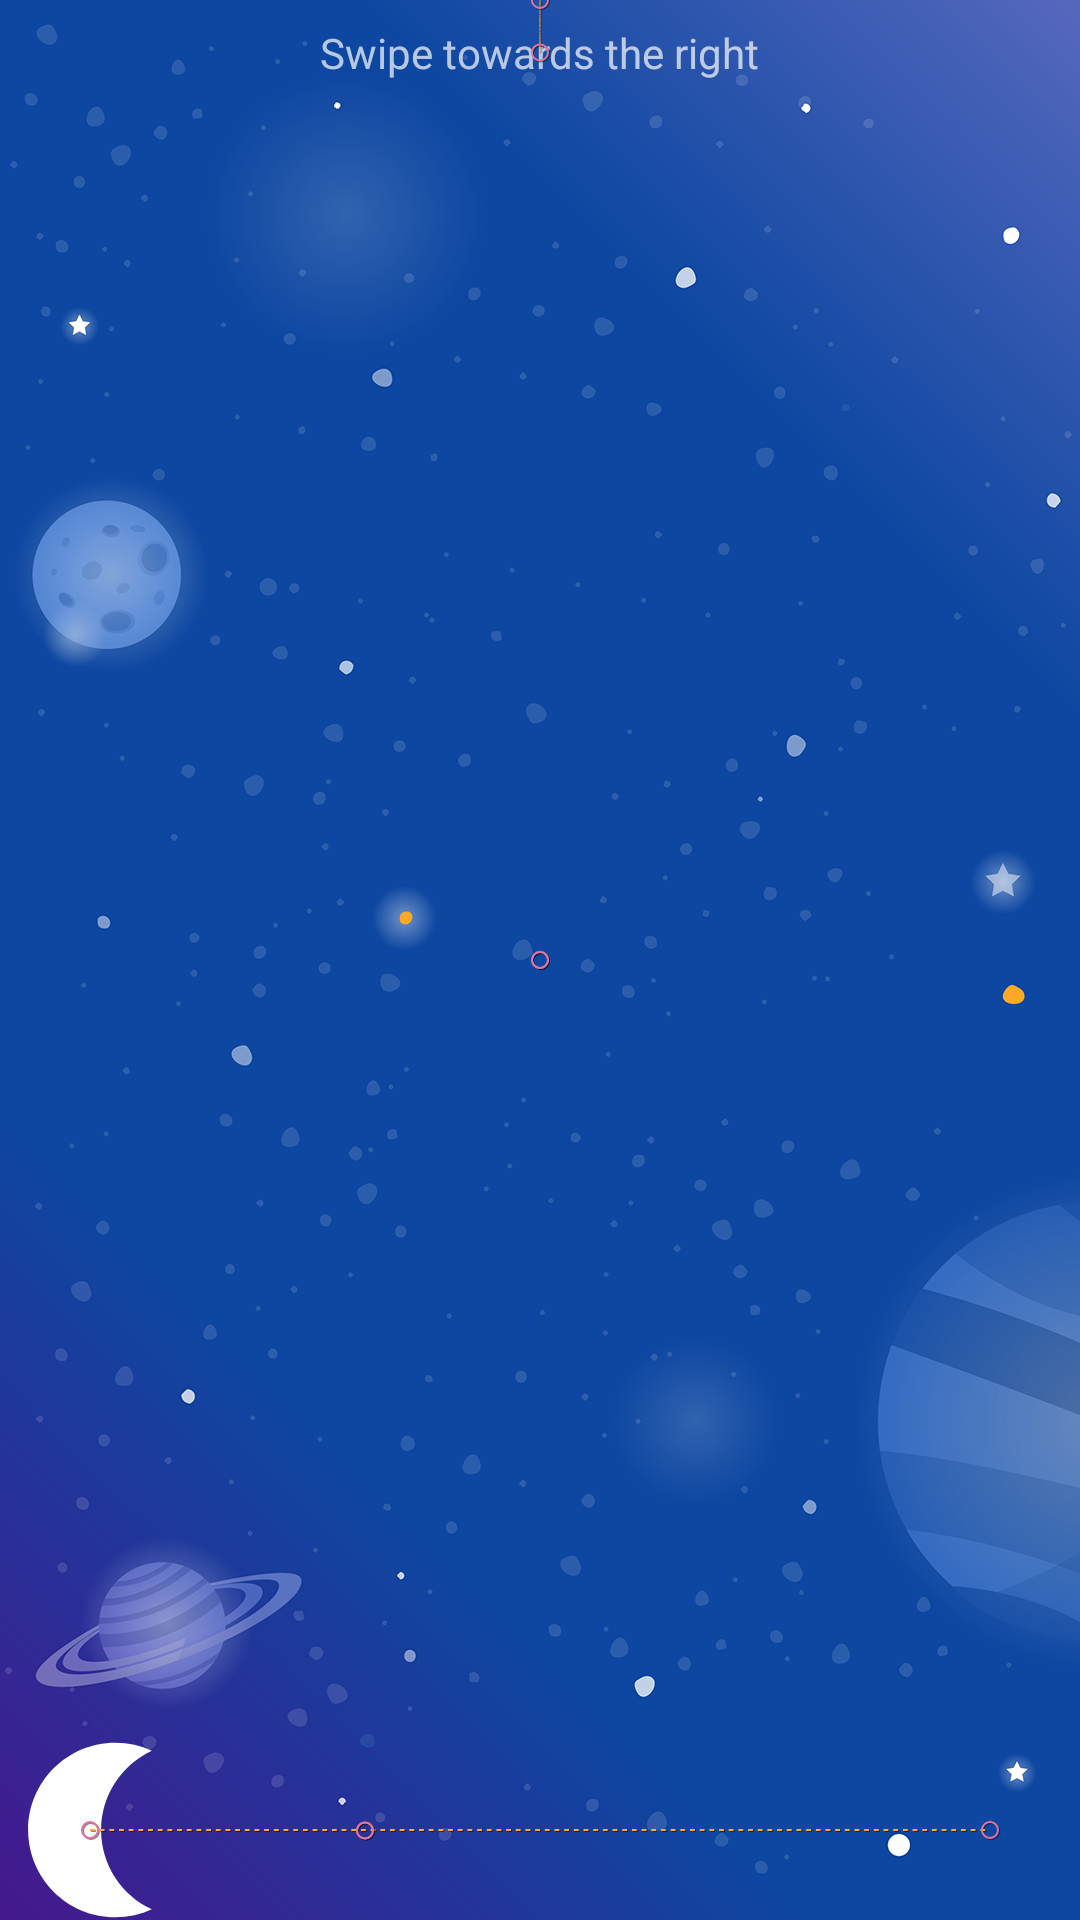

Where to tap for icons on this 1080x1920 app screen, as (x,y):
moon: (104,1829)
